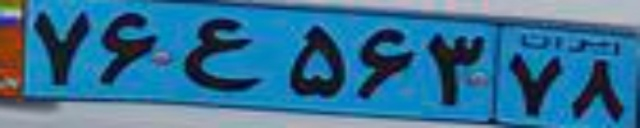3: (428, 32, 492, 107)
5: (292, 25, 345, 97)
6: (353, 27, 414, 99), (97, 14, 153, 83)
7: (33, 8, 90, 84), (508, 53, 562, 116)
8: (568, 57, 622, 121)
ain: (179, 17, 262, 92)
